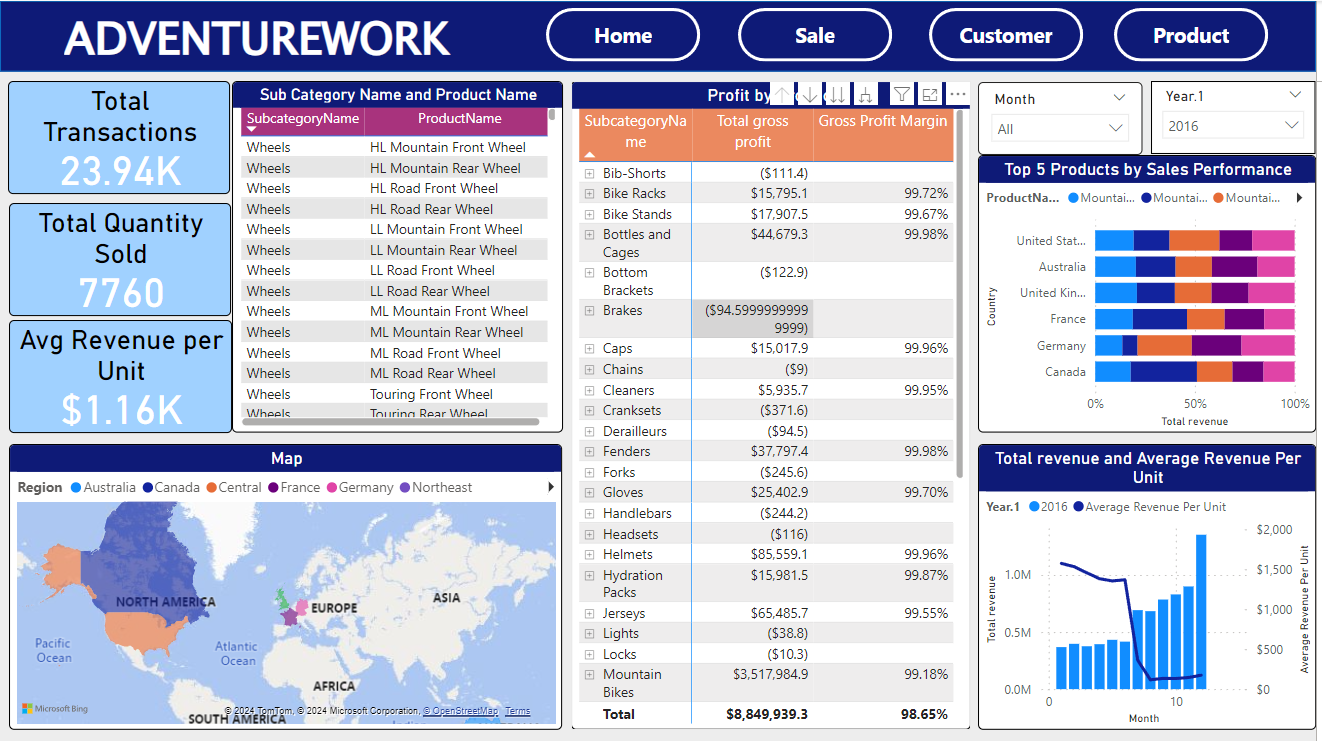

The page's visual inventory and layout, read from the dashboard file:
{"tool":"powerbi","page":{"name":"Product Report","canvas":[1280,720],"ordinal":3},"visuals":[{"type":"shape","box":[0,0,1280,68.7],"z":0},{"type":"textbox","box":[57.5,0,409,77.7],"z":1000},{"type":"actionButton","box":[717.5,7,150,52],"z":2000},{"type":"actionButton","box":[903.5,7,150,52],"z":3000},{"type":"actionButton","box":[1083.5,7,150,52],"z":4000},{"type":"actionButton","box":[531.5,7,150,52],"z":5000},{"type":"slicer","fields":{"Values":["Dim_date.Year.1"]},"box":[1119.9,78,160.5,70.9],"z":6000},{"type":"card","title":"Total Transactions","fields":{"Values":["Measure.Total transactions"]},"box":[7.9,77.7,216.4,110.2],"z":7000},{"type":"slicer","fields":{"Values":["Dim_date.Month"]},"box":[951.4,78.9,159.6,70.9],"z":8000},{"type":"card","title":"Total Quantity Sold","fields":{"Values":["Measure.TotalQuantitySold"]},"box":[8.8,196.5,215.9,109.9],"z":9000},{"type":"card","title":"Avg Revenue per Unit","fields":{"Values":["Measure.Average Revenue Per Unit"]},"box":[8.8,310.3,216.9,109.9],"z":10000},{"type":"hundredPercentStackedBarChart","title":"Top 5 Products by Sales Performance","fields":{"Category":["Dim_Territories.Country"],"Y":["Measure.Total revenue"],"Series":["Dim_Products.ProductName"]},"box":[951.4,149.9,329,270.4],"z":11000},{"type":"tableEx","title":"Sub Category Name and Product Name","fields":{"Values":["Dim_Product_Subcategories.SubcategoryName","Dim_Products.ProductName"]},"box":[226.1,78,321.9,342.3],"z":12000},{"type":"pivotTable","title":"Profit by Product","fields":{"Rows":["Dim_Product_Subcategories.SubcategoryName","Dim_Products.ProductName"],"Values":["Measure.Total gross profit","Measure.Gross Profit Margin"]},"box":[555.1,78,389.3,631.3],"z":13000},{"type":"lineClusteredColumnComboChart","title":"Total revenue and Average Revenue Per Unit","fields":{"Y":["Measure.Total revenue"],"Y2":["Measure.Average Revenue Per Unit"],"Category":["Dim_date.Month"],"Series":["Dim_date.Year.1"]},"box":[951.4,430.9,329,278.4],"z":14000},{"type":"filledMap","title":"Map","fields":{"Category":["Dim_Territories.Country"],"Series":["Dim_Territories.Region"]},"box":[8.9,430.9,538.2,278.4],"z":15000}]}

Visuals, with their boxes in screenshot pixels (x1, y1, x2, y2), scaled from the page's 1280x720 canvas onto the 1322x741 screenshot:
shape: [0,0,1321,71]
textbox: [59,0,482,80]
actionButton: [741,7,896,61]
actionButton: [933,7,1088,61]
actionButton: [1119,7,1274,61]
actionButton: [549,7,704,61]
slicer - Dim_date.Year.1: [1157,80,1321,153]
"Total Transactions" card: [8,80,232,193]
slicer - Dim_date.Month: [983,81,1147,154]
"Total Quantity Sold" card: [9,202,232,315]
"Avg Revenue per Unit" card: [9,319,233,432]
"Top 5 Products by Sales Performance" hundredPercentStackedBarChart: [983,154,1321,433]
"Sub Category Name and Product Name" tableEx: [234,80,566,433]
"Profit by Product" pivotTable: [573,80,975,730]
"Total revenue and Average Revenue Per Unit" lineClusteredColumnComboChart: [983,443,1321,730]
"Map" filledMap: [9,443,565,730]
